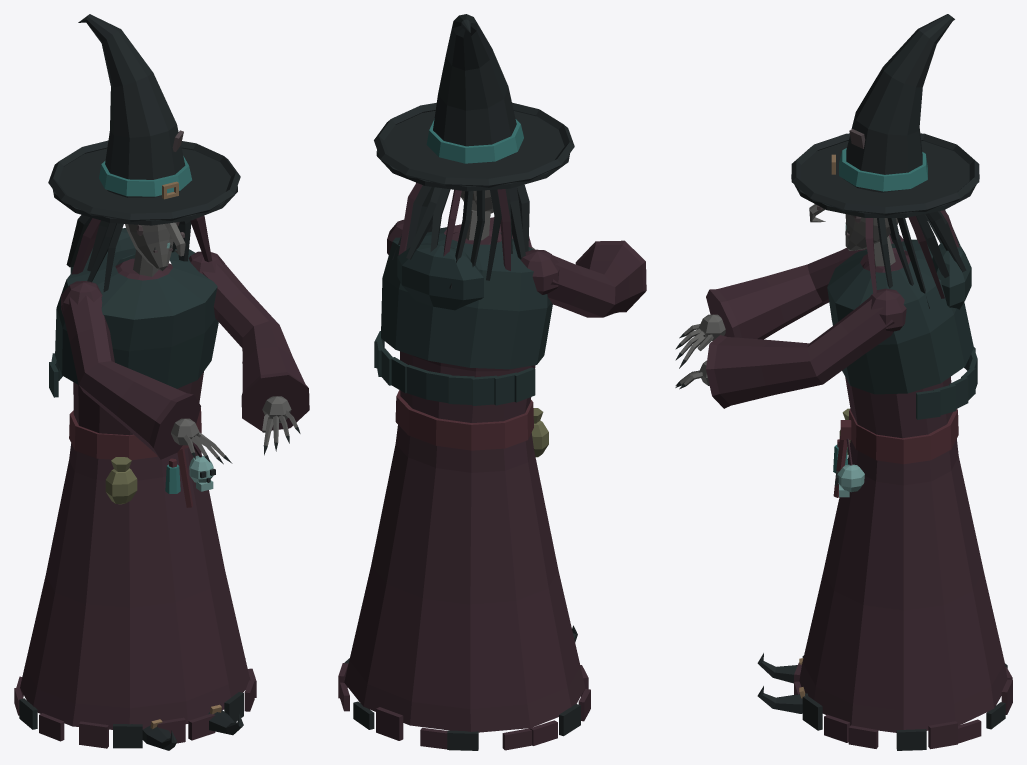
File: vrajitoare_4.glb
3 renders of one model, left to right at view 1: azimuth 30°, elevation 25°; view 2: azimuth 150°, elevation 25°; view 3: azimuth 270°, elevation 25°, orthographic. The views are drawn at different scales.
Visible parts, largest first — view 1: Corp, Cap, Brate; view 2: Corp, Cap, Brate; view 3: Corp, Cap, Brate.
Part boxes in pixels (bbox=[...]): Corp: bbox=[14, 228, 256, 750]; Cap: bbox=[48, 14, 240, 291]; Brate: bbox=[61, 251, 309, 464]; Corp: bbox=[338, 226, 590, 750]; Cap: bbox=[374, 14, 574, 288]; Brate: bbox=[387, 217, 646, 317]; Corp: bbox=[757, 239, 1012, 750]; Cap: bbox=[791, 14, 979, 308]; Brate: bbox=[675, 234, 908, 408].
Bounding box in the file's own units: 0.7061 × 2.13 × 0.9684.
